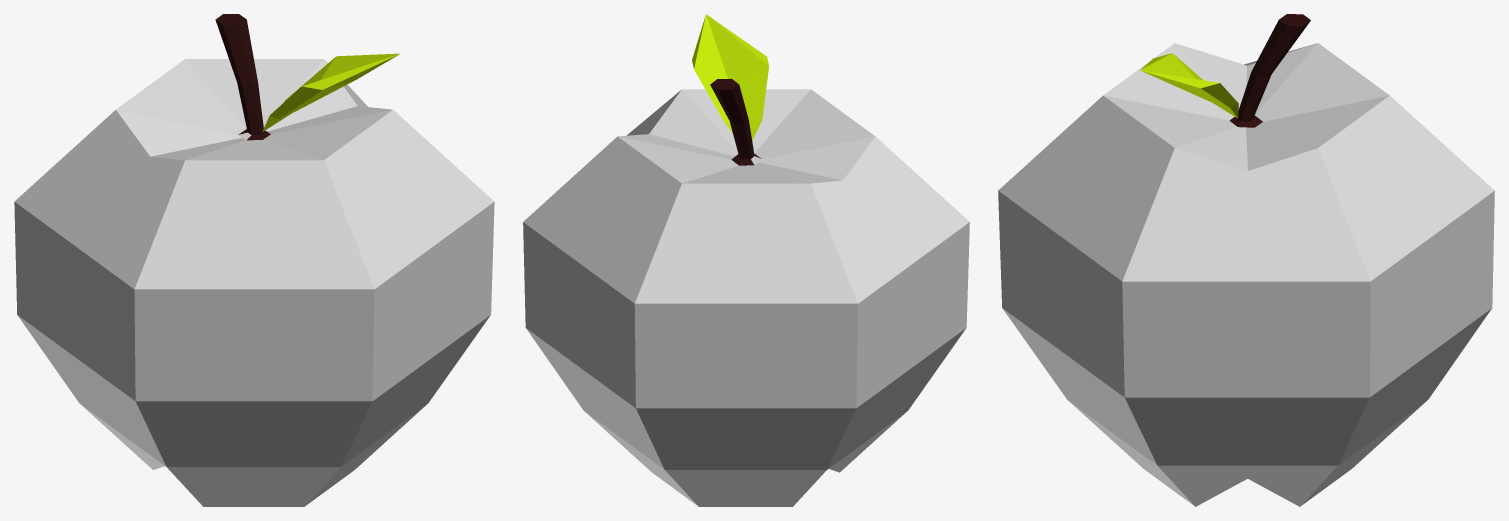
The model's file is apple.fbx.
3 views of the same model, side by side, from view 1: azimuth 30°, elevation 25°; view 2: azimuth 150°, elevation 25°; view 3: azimuth 270°, elevation 25° (orthographic). The views are drawn at different scales.
Parts seen in each view (by area): view 1: Sphere, Kotas, Sphere.002; view 2: Sphere, Sphere.002, Kotas; view 3: Sphere, Kotas, Sphere.002.
Boxes of the visible parts, x1=… form: Sphere: x1=14, y1=59, x2=494, y2=506; Kotas: x1=215, y1=14, x2=270, y2=140; Sphere.002: x1=262, y1=53, x2=400, y2=132; Sphere: x1=523, y1=89, x2=969, y2=506; Sphere.002: x1=692, y1=14, x2=768, y2=140; Kotas: x1=710, y1=78, x2=760, y2=165; Sphere: x1=998, y1=43, x2=1494, y2=506; Kotas: x1=1229, y1=14, x2=1310, y2=127; Sphere.002: x1=1140, y1=53, x2=1238, y2=118.
Bounding box in the file's own units: 22.36 × 25.76 × 25.82.
